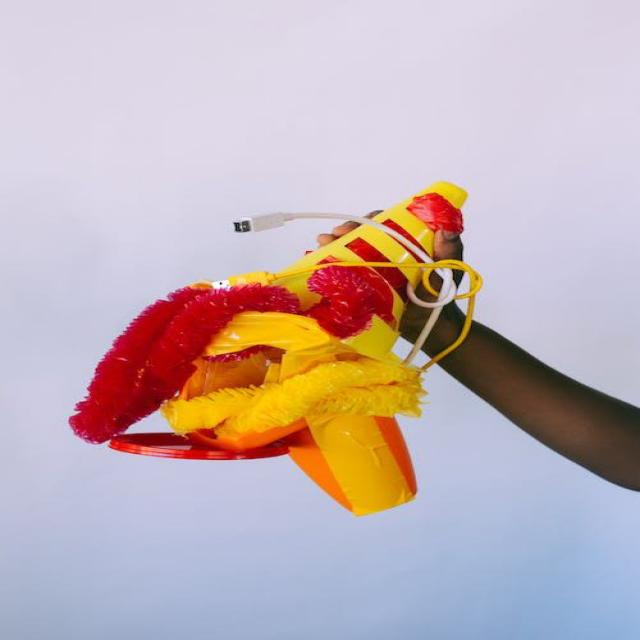trash: (99, 193, 513, 513)
